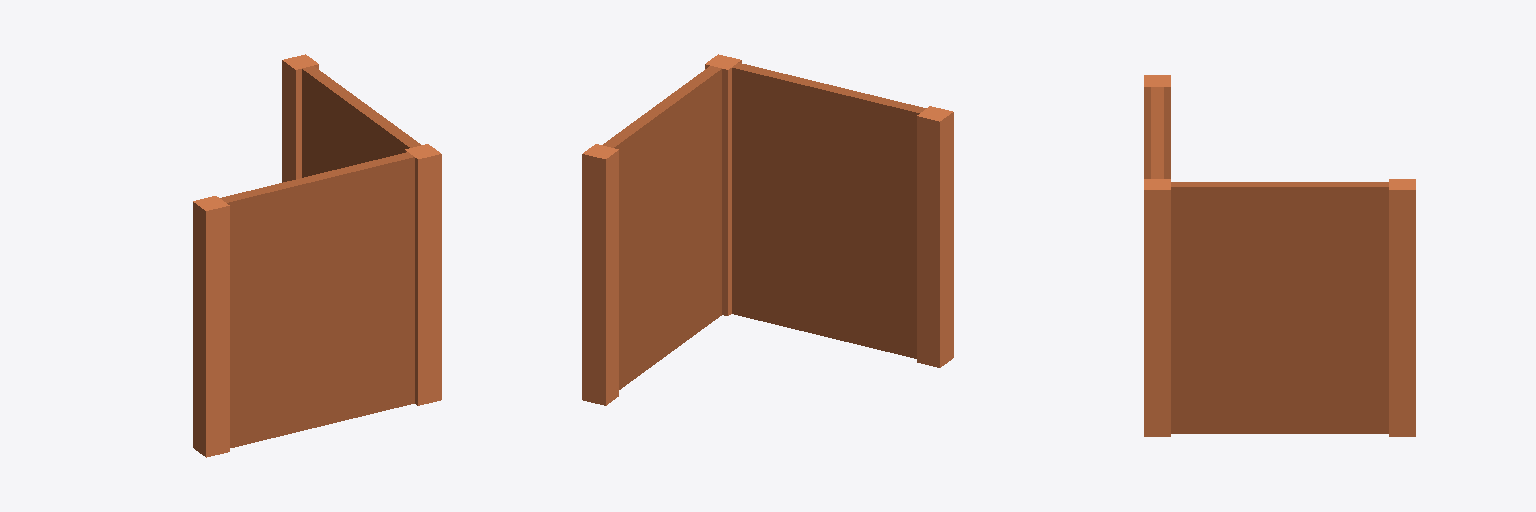
File: wallWoodCorner.obj
3 views of the same model, side by side, from view 1: azimuth 30°, elevation 25°; view 2: azimuth 150°, elevation 25°; view 3: azimuth 270°, elevation 25° (orthographic).
Visible parts, largest first — view 1: wallWoodCorner; view 2: wallWoodCorner; view 3: wallWoodCorner.
Boxes of the visible parts, <box> form: wallWoodCorner: <box>193,54,441,457</box>; wallWoodCorner: <box>582,54,953,405</box>; wallWoodCorner: <box>1144,75,1415,436</box>.
Size of the model in its own units: 1 by 1 by 1.